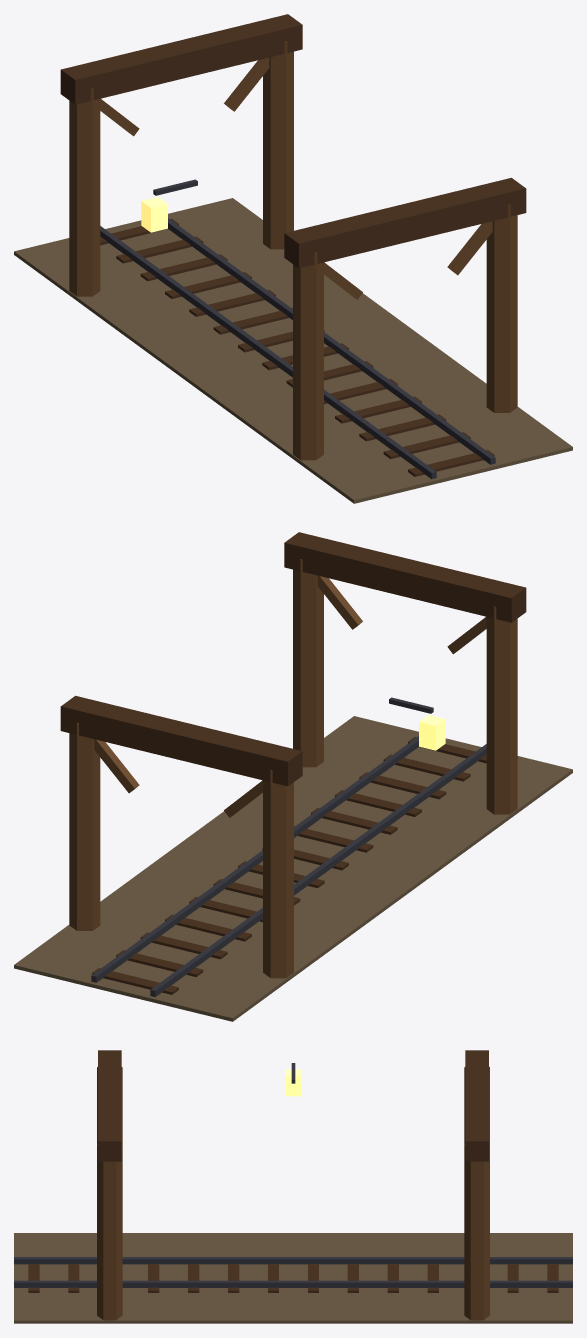
File: soegol_gol_module.glb
3 views of the same model, one above another, from view 1: azimuth 30°, elevation 25°; view 2: azimuth 150°, elevation 25°; view 3: azimuth 270°, elevation 25° (orthographic). The views are drawn at different scales.
Parts seen in each view (by area): view 1: soegol_gol_module; view 2: soegol_gol_module; view 3: soegol_gol_module.
Boxes of the visible parts, left/top/right/bottom form: soegol_gol_module: left=14, top=14, right=572, bottom=503; soegol_gol_module: left=14, top=532, right=572, bottom=1021; soegol_gol_module: left=14, top=1050, right=572, bottom=1323.
Bounding box in the file's own units: 3.1 × 2.54 × 7.
